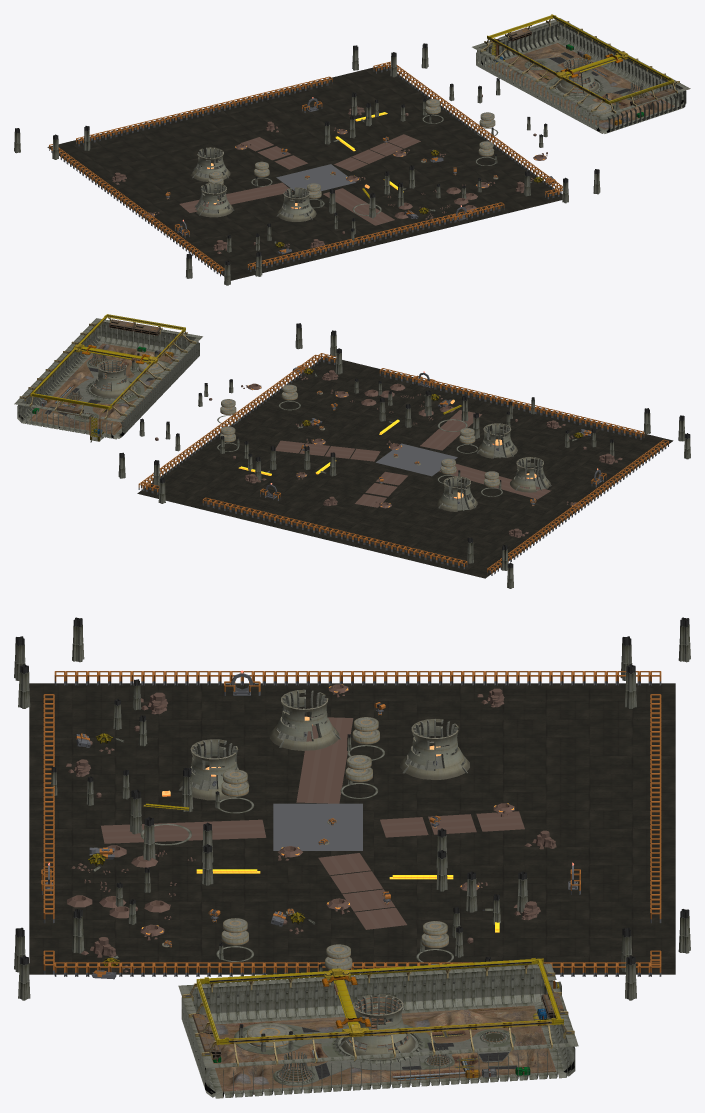
File: emberfall.glb
3 renders of one model, top to bottom at view 1: azimuth 30°, elevation 25°; view 2: azimuth 150°, elevation 25°; view 3: azimuth 270°, elevation 25°, orthographic. The views are drawn at different scales.
Parts seen in each view (by area): view 1: mesh_108_Mesh_main_floor_subset_1, Smelter_C__mesh_155_Mesh_cool_tower_fins_subset_0, Smelter_B__mesh_155_Mesh_cool_tower_fins_subset_0, mesh_108_Mesh_main_floor_subset_6, Smelter_A__mesh_155_Mesh_cool_tower_fins_subset_0, mesh_108_Mesh_main_floor_subset_5, mesh_108_Mesh_main_floor_subset_2, mesh_108_Mesh_main_floor_subset_4, mesh_155_Mesh_cool_tower_fins_subset_0, Smelter_B__mesh_155_Mesh_cool_tower_fins_subset_1; view 2: mesh_108_Mesh_main_floor_subset_1, mesh_155_Mesh_cool_tower_fins_subset_0, mesh_108_Mesh_main_floor_subset_6, Smelter_B__mesh_155_Mesh_cool_tower_fins_subset_0, Smelter_A__mesh_155_Mesh_cool_tower_fins_subset_0, Smelter_C__mesh_155_Mesh_cool_tower_fins_subset_0, mesh_108_Mesh_main_floor_subset_2, mesh_108_Mesh_main_floor_subset_5, Smelter_C__mesh_155_Mesh_cool_tower_fins_subset_1, mesh_108_Mesh_main_floor_subset_4, Smelter_A__mesh_155_Mesh_cool_tower_fins_subset_1, Smelter_B__mesh_155_Mesh_cool_tower_fins_subset_1; view 3: Ceiling (×115), mesh_108_Mesh_main_floor_subset_1, Smelter_A__mesh_155_Mesh_cool_tower_fins_subset_0, mesh_108_Mesh_main_floor_subset_5, Smelter_B__mesh_155_Mesh_cool_tower_fins_subset_0, mesh_108_Mesh_main_floor_subset_6, mesh_155_Mesh_cool_tower_fins_subset_0, mesh_108_Mesh_main_floor_subset_2, mesh_105_Mesh_main_track_a_subset_5, mesh_108_Mesh_main_floor_subset_4, Smelter_C__mesh_155_Mesh_cool_tower_fins_subset_0, mesh_104_Mesh_main_track_a01_subset_4 (+20 smaller).
Part boxes in pixels (bbox=[...]): mesh_108_Mesh_main_floor_subset_1: bbox=[488, 43, 674, 125]; Smelter_C__mesh_155_Mesh_cool_tower_fins_subset_0: bbox=[277, 187, 316, 221]; Smelter_B__mesh_155_Mesh_cool_tower_fins_subset_0: bbox=[196, 183, 233, 217]; mesh_108_Mesh_main_floor_subset_6: bbox=[495, 44, 570, 72]; Smelter_A__mesh_155_Mesh_cool_tower_fins_subset_0: bbox=[191, 147, 230, 181]; mesh_108_Mesh_main_floor_subset_5: bbox=[512, 69, 659, 118]; mesh_108_Mesh_main_floor_subset_2: bbox=[524, 59, 649, 119]; mesh_108_Mesh_main_floor_subset_4: bbox=[539, 52, 628, 105]; mesh_155_Mesh_cool_tower_fins_subset_0: bbox=[557, 58, 598, 94]; Smelter_B__mesh_155_Mesh_cool_tower_fins_subset_1: bbox=[194, 184, 234, 215]; mesh_108_Mesh_main_floor_subset_1: bbox=[29, 343, 177, 434]; mesh_155_Mesh_cool_tower_fins_subset_0: bbox=[90, 360, 133, 397]; mesh_108_Mesh_main_floor_subset_6: bbox=[33, 411, 118, 432]; Smelter_B__mesh_155_Mesh_cool_tower_fins_subset_0: bbox=[510, 457, 550, 492]; Smelter_A__mesh_155_Mesh_cool_tower_fins_subset_0: bbox=[437, 476, 477, 511]; Smelter_C__mesh_155_Mesh_cool_tower_fins_subset_0: bbox=[477, 423, 517, 458]; mesh_108_Mesh_main_floor_subset_2: bbox=[66, 358, 172, 421]; mesh_108_Mesh_main_floor_subset_5: bbox=[65, 346, 154, 419]; Smelter_C__mesh_155_Mesh_cool_tower_fins_subset_1: bbox=[477, 424, 514, 458]; mesh_108_Mesh_main_floor_subset_4: bbox=[44, 369, 148, 418]; Smelter_A__mesh_155_Mesh_cool_tower_fins_subset_1: bbox=[438, 477, 475, 511]; Smelter_B__mesh_155_Mesh_cool_tower_fins_subset_1: bbox=[515, 457, 551, 491]; Ceiling (×115): bbox=[29, 683, 675, 956]; mesh_108_Mesh_main_floor_subset_1: bbox=[212, 1005, 556, 1091]; Smelter_A__mesh_155_Mesh_cool_tower_fins_subset_0: bbox=[400, 719, 469, 779]; mesh_108_Mesh_main_floor_subset_5: bbox=[220, 1009, 488, 1094]; Smelter_B__mesh_155_Mesh_cool_tower_fins_subset_0: bbox=[269, 690, 339, 750]; mesh_108_Mesh_main_floor_subset_6: bbox=[490, 1010, 555, 1072]; mesh_155_Mesh_cool_tower_fins_subset_0: bbox=[341, 994, 415, 1059]; mesh_108_Mesh_main_floor_subset_2: bbox=[234, 1023, 515, 1085]; mesh_105_Mesh_main_track_a_subset_5: bbox=[229, 1020, 551, 1044]; mesh_108_Mesh_main_floor_subset_4: bbox=[309, 1028, 517, 1077]; Smelter_C__mesh_155_Mesh_cool_tower_fins_subset_0: bbox=[179, 739, 249, 800]; mesh_104_Mesh_main_track_a01_subset_4: bbox=[209, 959, 531, 983].
Size of the model in its own units: 320 by 24.57 by 196.
Materials: 205 (111 with a texture image).
